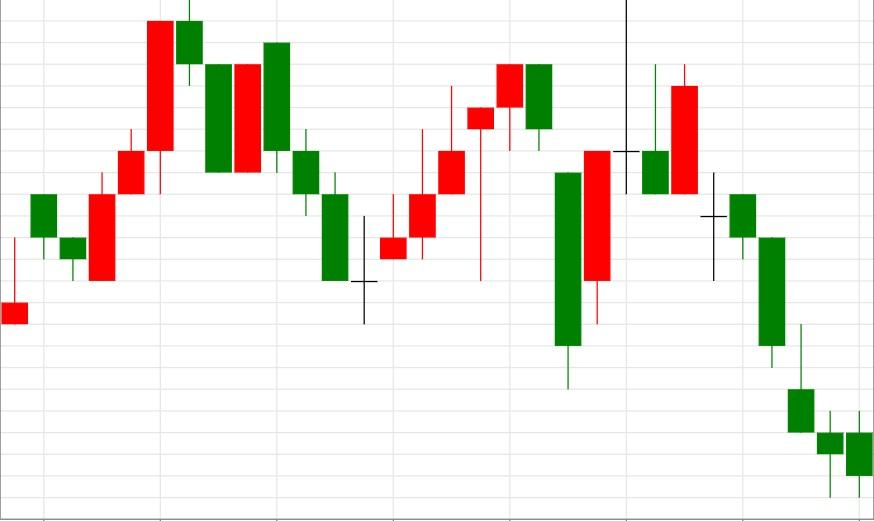bearish_engulfing_fall: (351, 64, 553, 323)
three_black_crows_fall: (205, 42, 349, 281)
three_white_soldiers_rise: (263, 41, 466, 324)
